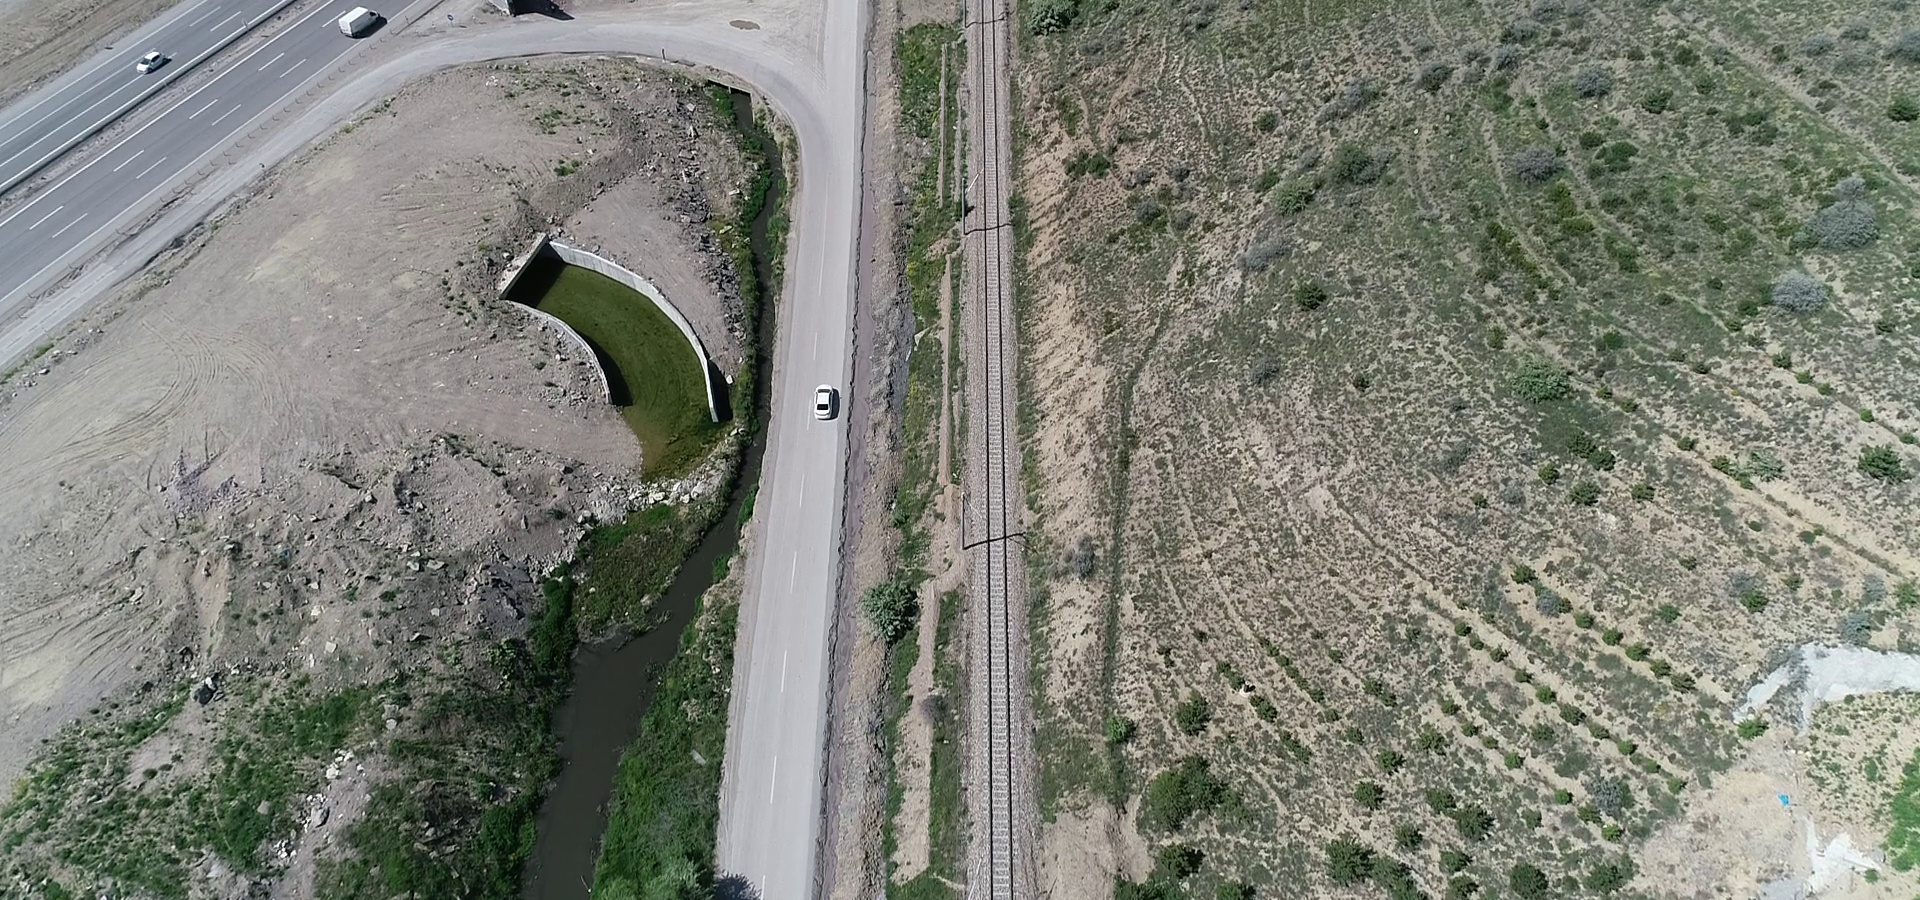arac: (332, 1, 382, 51), (803, 384, 839, 424), (133, 47, 175, 76)
